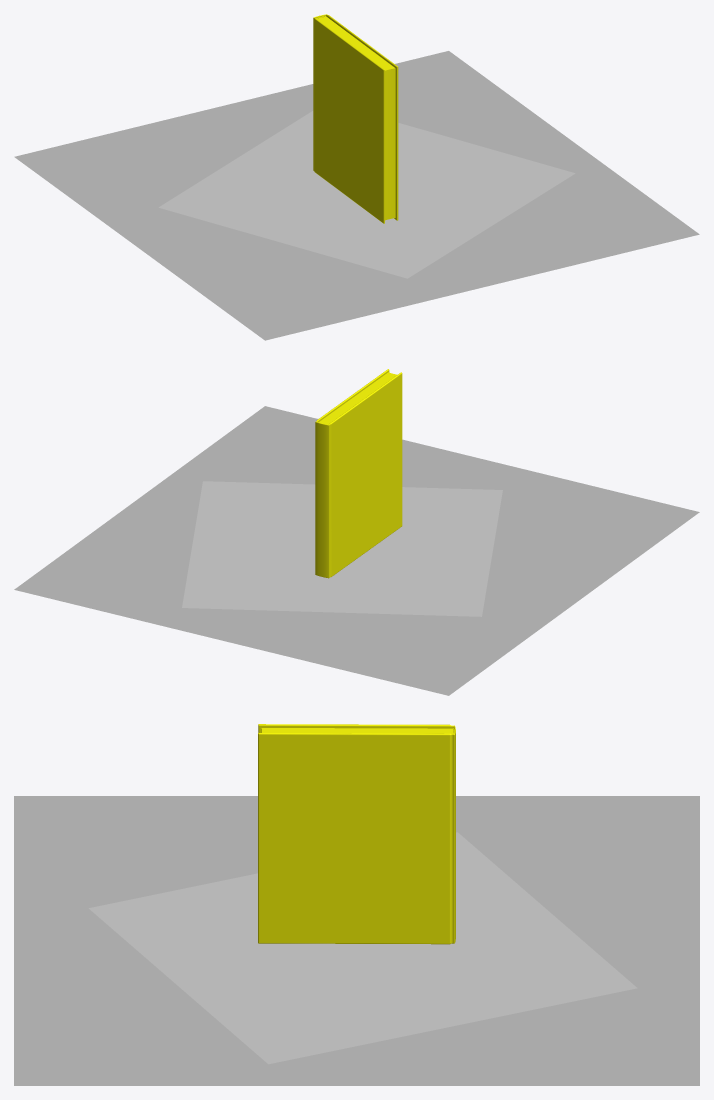
File: book.glb
3 renders of one model, top to bottom at view 1: azimuth 30°, elevation 25°; view 2: azimuth 150°, elevation 25°; view 3: azimuth 270°, elevation 25°, orthographic. The views are drawn at different scales.
Visible parts, largest first — view 1: ground, ground_splashes, cover, pages; view 2: ground, ground_splashes, cover, pages; view 3: ground, ground_splashes, cover, pages.
Part boxes in pixels (left/top/right/bottom): ground: left=14, top=51, right=699, bottom=340; ground_splashes: left=159, top=111, right=575, bottom=278; cover: left=313, top=14, right=398, bottom=223; pages: left=316, top=16, right=395, bottom=220; ground: left=14, top=406, right=699, bottom=695; ground_splashes: left=182, top=481, right=502, bottom=616; cover: left=315, top=369, right=402, bottom=578; pages: left=318, top=372, right=397, bottom=424; ground: left=14, top=796, right=699, bottom=1085; ground_splashes: left=89, top=832, right=637, bottom=1064; cover: left=258, top=724, right=455, bottom=944; pages: left=261, top=728, right=454, bottom=733.
Bounding box in the file's own units: 0.7662 × 0.2599 × 0.7662.
3 materials, 1 textured.
